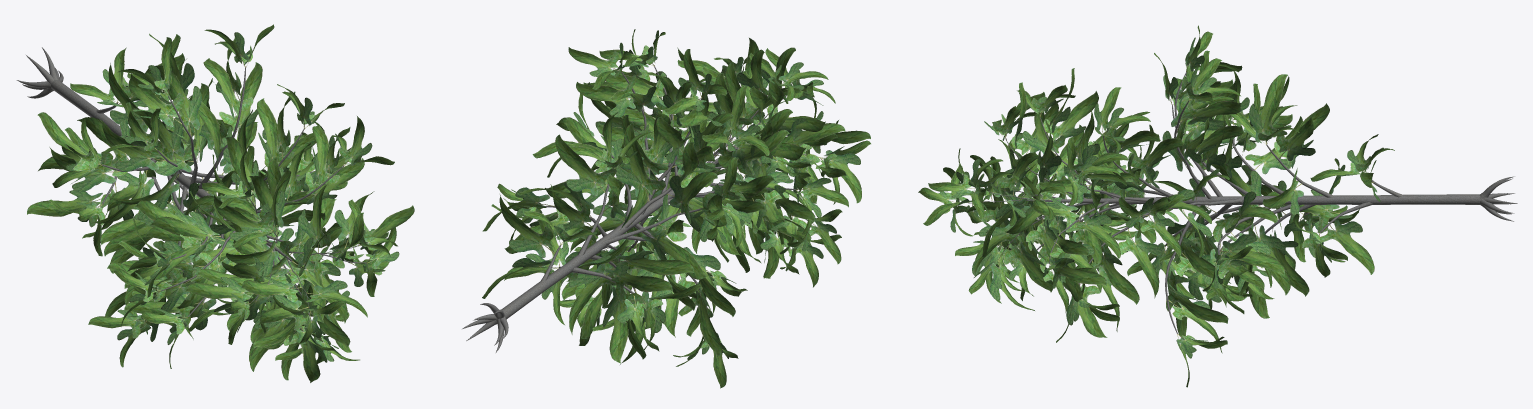
3 renders of one model, left to right at view 1: azimuth 30°, elevation 25°; view 2: azimuth 150°, elevation 25°; view 3: azimuth 270°, elevation 25°, orthographic. The views are drawn at different scales.
Visible parts, largest first — view 1: OC27_1; view 2: OC27_1; view 3: OC27_1.
Part boxes in pixels (x1=…): OC27_1: x1=16, y1=24, x2=414, y2=382; OC27_1: x1=462, y1=29, x2=870, y2=388; OC27_1: x1=918, y1=25, x2=1517, y2=387.
Bounding box in the file's own units: 0.5425 × 0.5943 × 1.
Materials: 4 (4 with a texture image).
